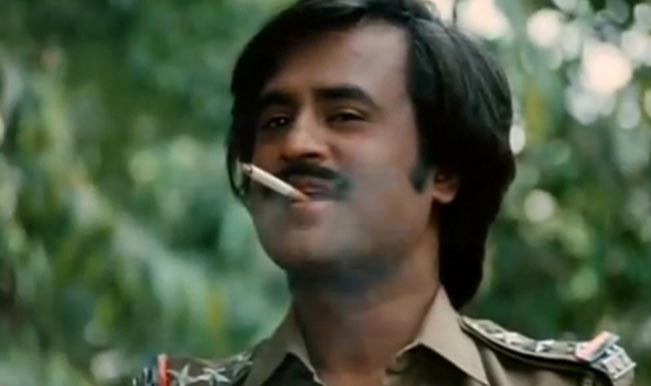cigarette: (233, 153, 321, 210)
